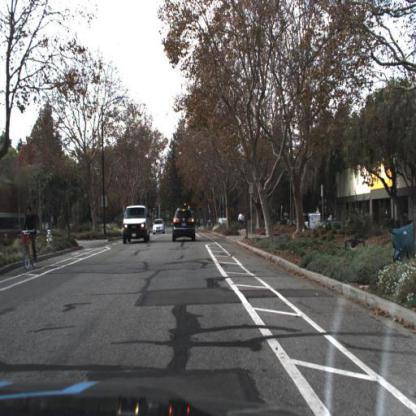biker: (24, 210, 36, 271)
car: (122, 203, 152, 247), (124, 203, 149, 243), (173, 209, 200, 245), (152, 217, 167, 237), (153, 219, 165, 234)
pedestrian: (240, 213, 245, 231)
truck: (305, 212, 323, 231), (308, 213, 322, 230)
